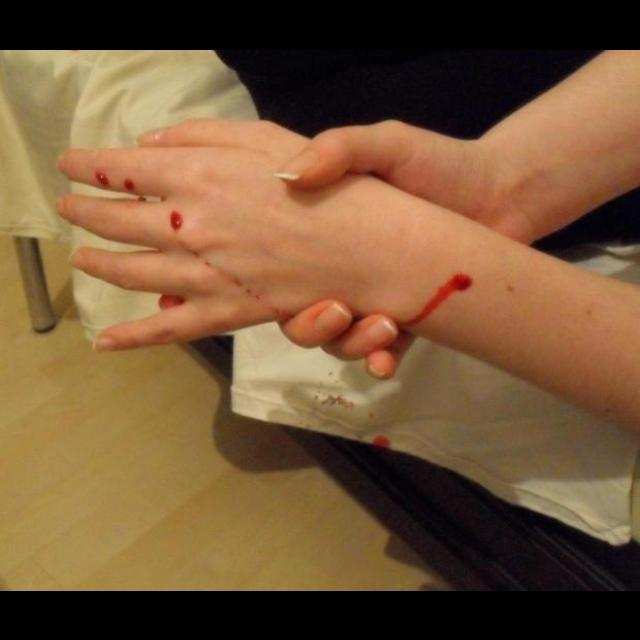blood: (405, 272, 473, 325), (159, 295, 184, 309), (170, 210, 183, 229), (97, 171, 108, 186), (124, 178, 134, 191)
